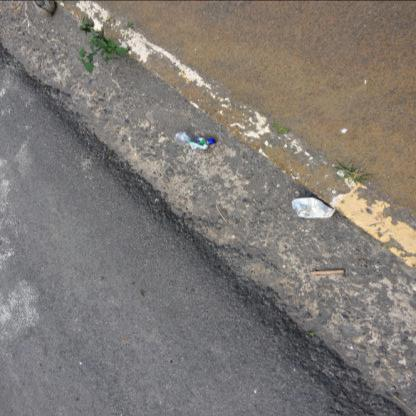Aluminium foil: (291, 198, 336, 218)
Bottle: (209, 138, 215, 144)
Bottle cap: (174, 131, 215, 149)
Cigarette: (27, 23, 30, 27)
